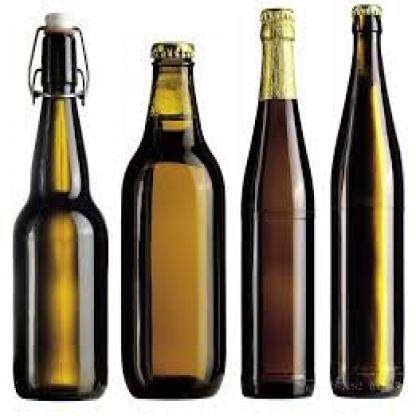trash: (122, 42, 224, 397), (14, 14, 107, 399), (331, 4, 402, 396), (242, 9, 313, 396)
